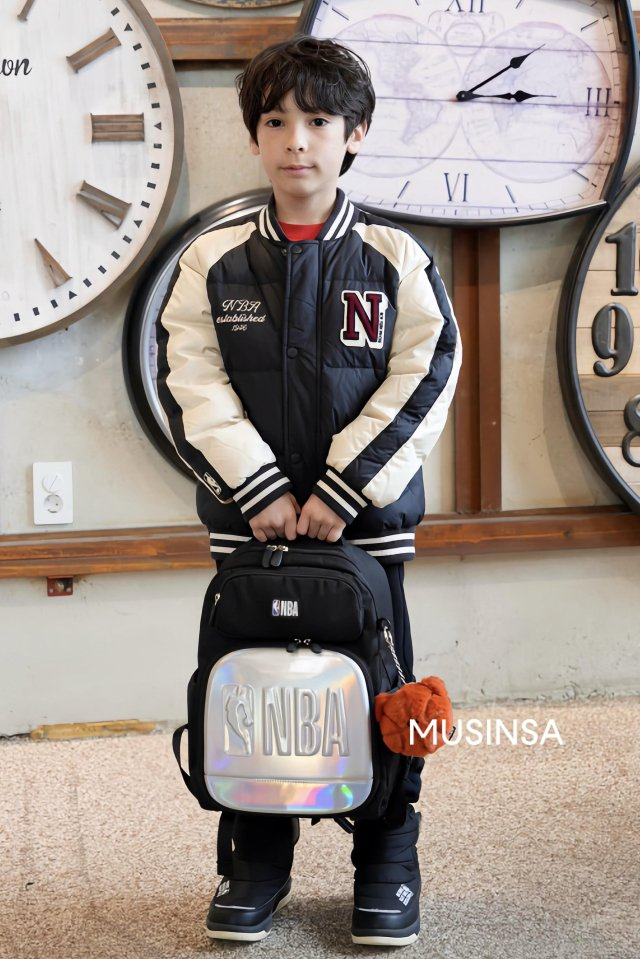Backpack: (177, 537, 400, 826)
Boots: (209, 817, 426, 946)
Jacket: (154, 199, 468, 570)
